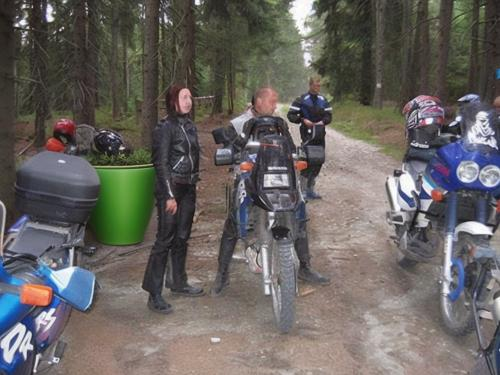motorbike: (388, 103, 500, 337), (2, 153, 104, 375), (214, 136, 326, 331)
person: (212, 89, 331, 298), (144, 85, 207, 315), (289, 77, 334, 201)
person/foot: (298, 266, 330, 285), (145, 296, 173, 315), (170, 285, 204, 297), (209, 279, 230, 296), (307, 191, 322, 200)
person/hand: (165, 200, 177, 215), (304, 119, 312, 127), (316, 122, 322, 125)
person/head: (167, 85, 193, 114), (251, 89, 277, 117), (308, 77, 322, 93)
pottedplant: (84, 149, 156, 245)
